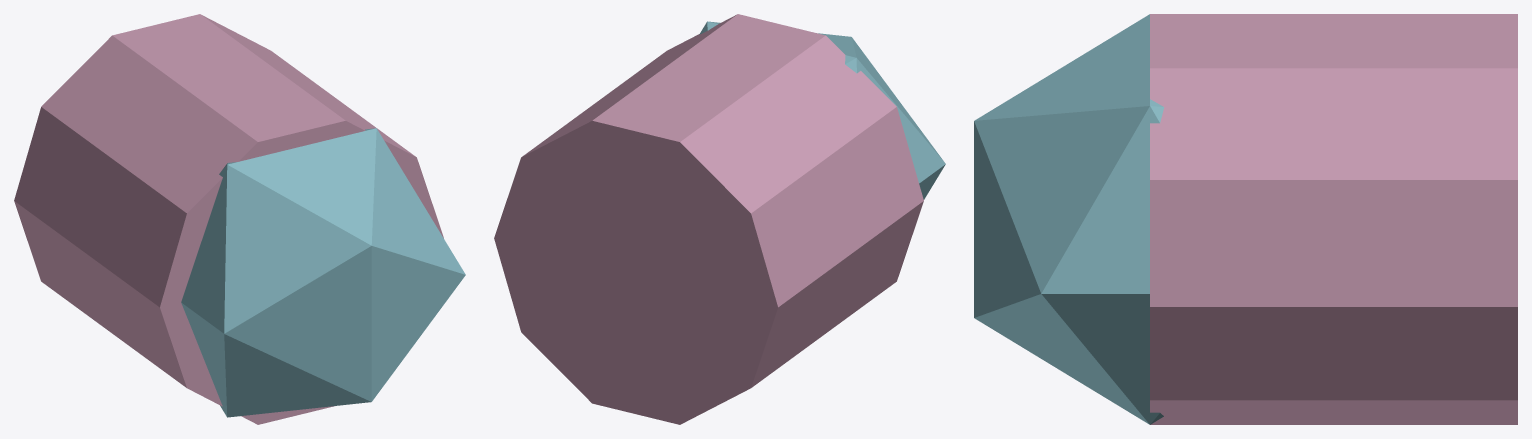
3 renders of one model, left to right at view 1: azimuth 30°, elevation 25°; view 2: azimuth 150°, elevation 25°; view 3: azimuth 270°, elevation 25°, orthographic. The views are drawn at different scales.
Visible parts, largest first — view 1: part0, part1; view 2: part0, part1; view 3: part0, part1.
Boxes of the visible parts, x1,y1,x2,y2 form: part0: [14, 14, 443, 424]; part1: [181, 128, 465, 417]; part0: [494, 14, 923, 424]; part1: [699, 21, 945, 199]; part0: [1150, 14, 1517, 424]; part1: [974, 14, 1164, 424].
Bounding box in the file's own units: 1.8 × 1.71 × 2.37.
